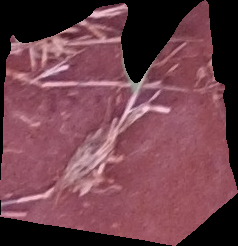soil: (3, 2, 236, 244)
